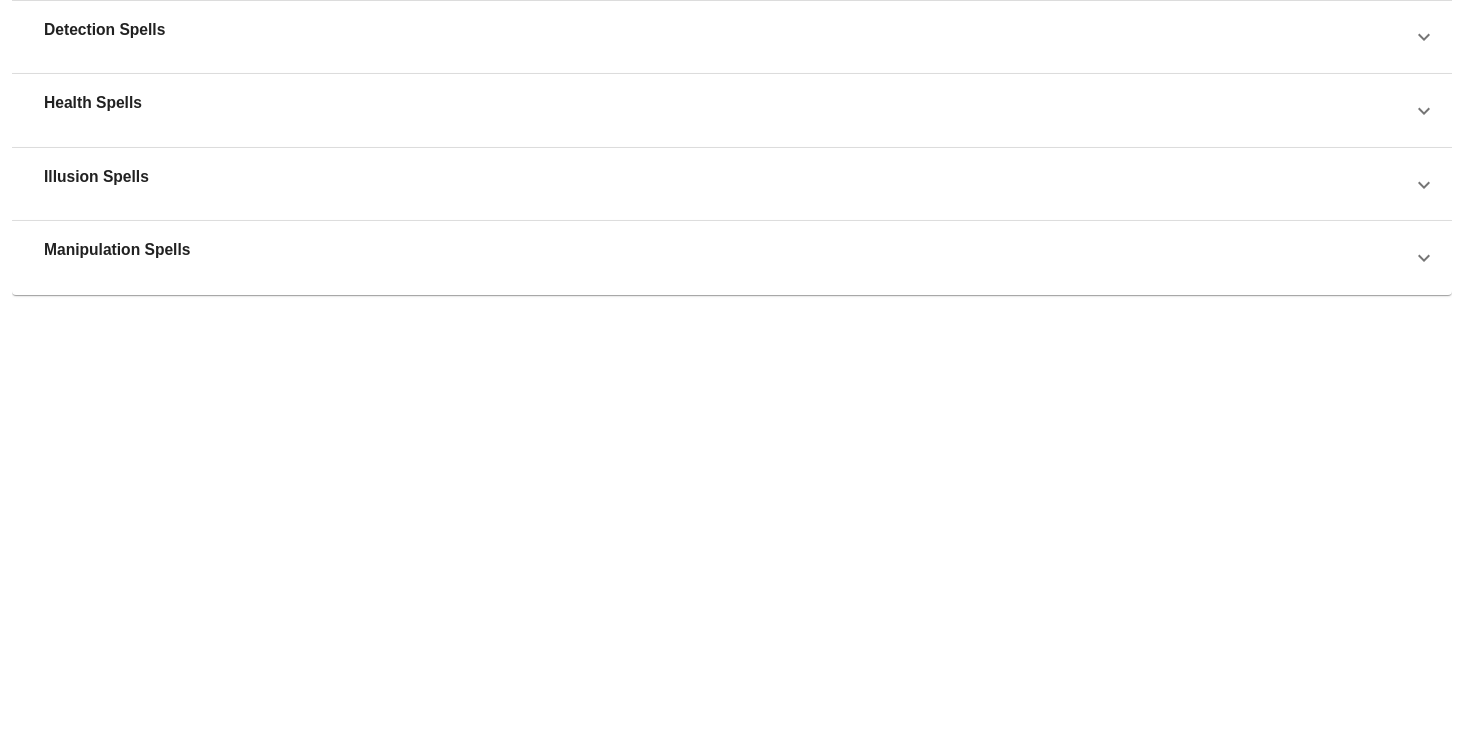
it: <Spells/> › should display Manipulation spells
Expected: the text "Armor" is not shown
Expected: the text "Mana barrier" is not shown
Click the button "Manipulation Spells": x=117, y=250 [12,221,1452,295]
(page scrolled)
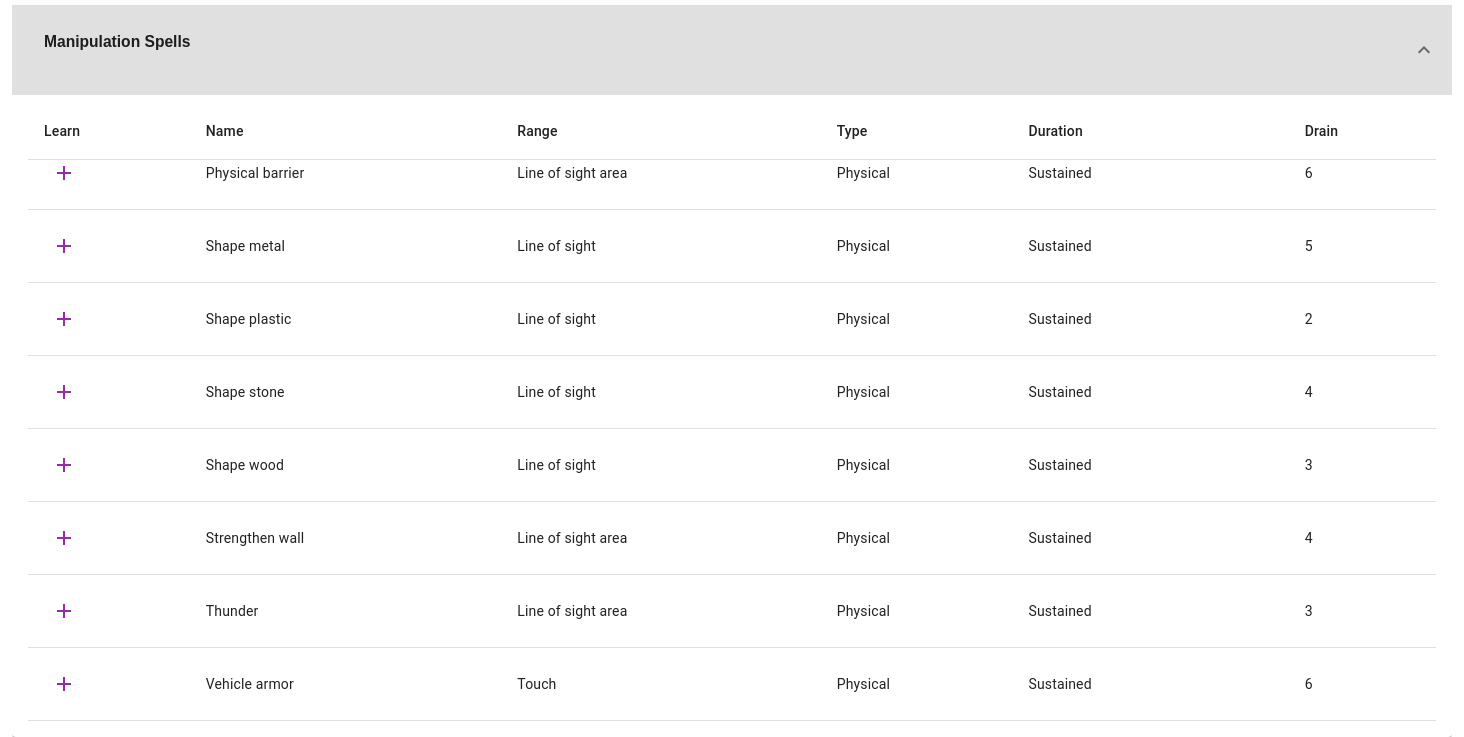
Result: the text "Physical barrier" is shown at [190,137,501,210]
Result: the text "Shape metal" is shown at [190,210,501,283]
Result: the text "Shape plastic" is shown at [190,283,501,356]
